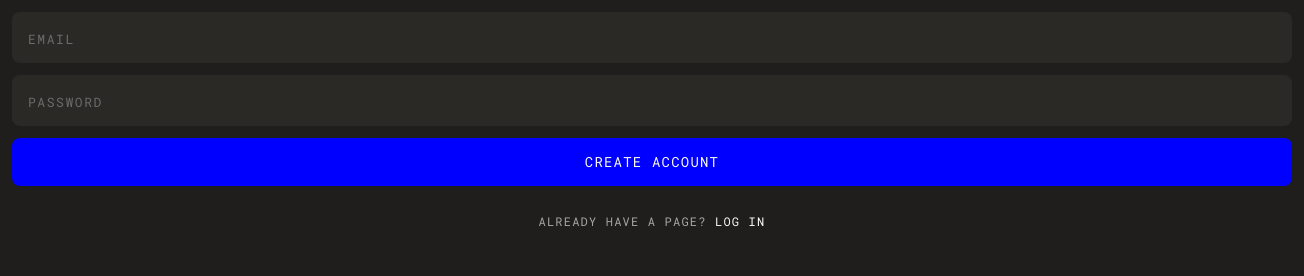
Test: AuthForm › points duplicate signups to the login page
This screenshot has width=1304, height=276.
In the field with placeholder "Email": (652, 38) [12, 12, 1292, 63], type "a@b.com"
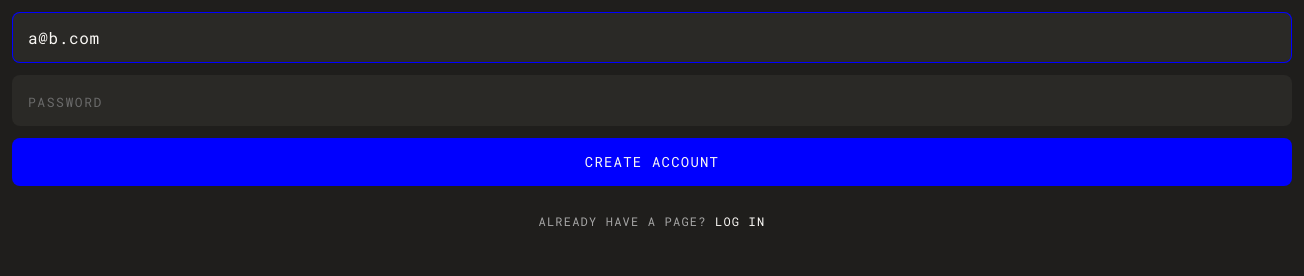
In the password field with placeholder "Password": (652, 101) [12, 75, 1292, 126], type "secret123"
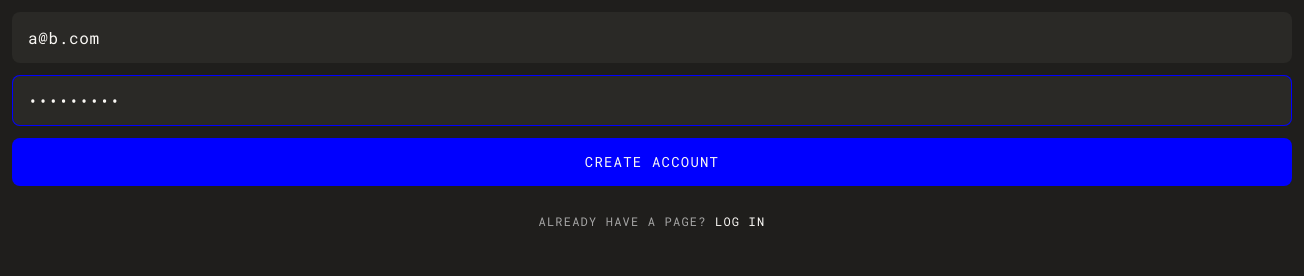
Click the button "Create account": (652, 162) [12, 138, 1292, 186]
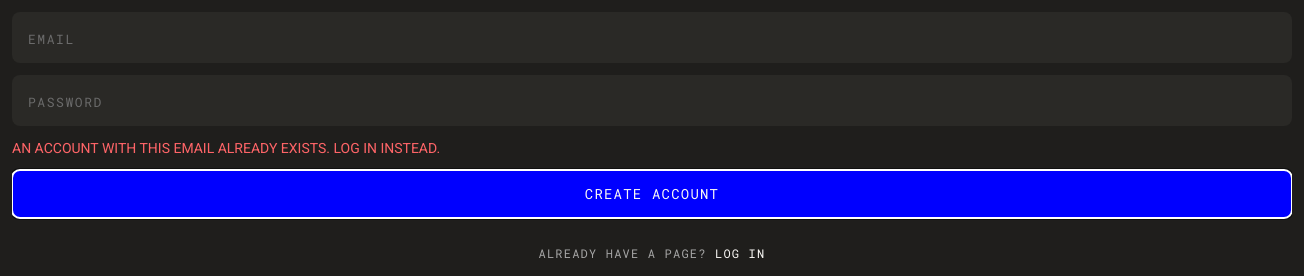
Expected: the text "An account with this email already exists. Log in instead." is shown, [12, 140, 440, 156]
